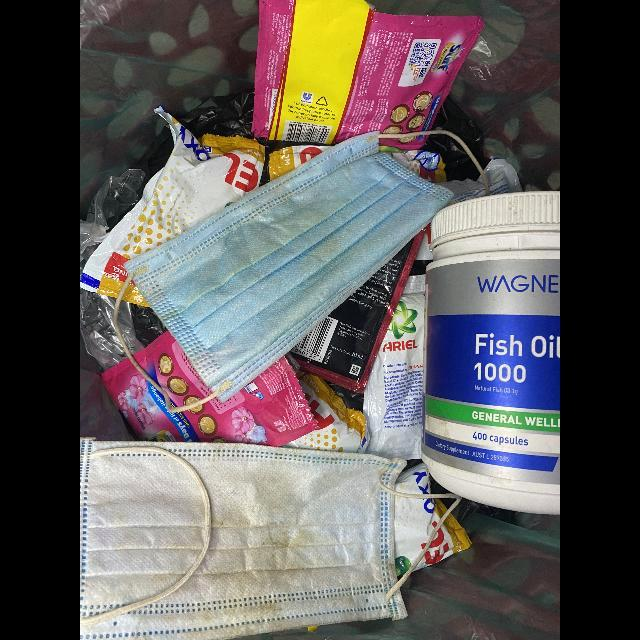plastic_container: (420, 191, 560, 519)
plastic_sachet: (82, 106, 267, 307), (250, 0, 484, 151), (100, 330, 315, 447), (285, 225, 429, 395), (365, 275, 426, 459), (394, 468, 472, 580), (283, 369, 371, 452)
